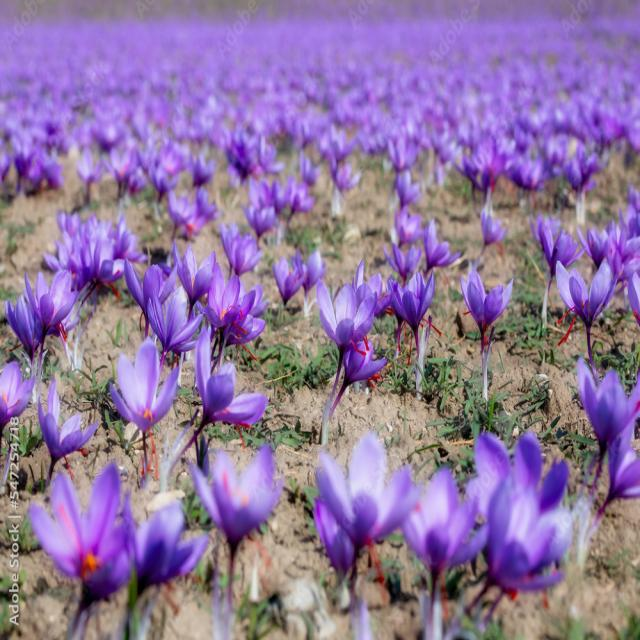saffron open: (29, 463, 131, 639), (190, 444, 282, 587), (316, 279, 376, 444), (189, 328, 268, 446), (578, 358, 640, 493), (556, 260, 618, 384), (461, 268, 512, 401), (109, 337, 178, 433), (531, 214, 584, 328), (39, 379, 98, 480), (25, 270, 78, 373), (329, 337, 386, 420), (388, 272, 434, 356), (0, 362, 34, 448), (292, 250, 326, 315), (474, 210, 508, 270), (424, 219, 461, 274), (273, 257, 304, 305), (396, 171, 421, 208)
